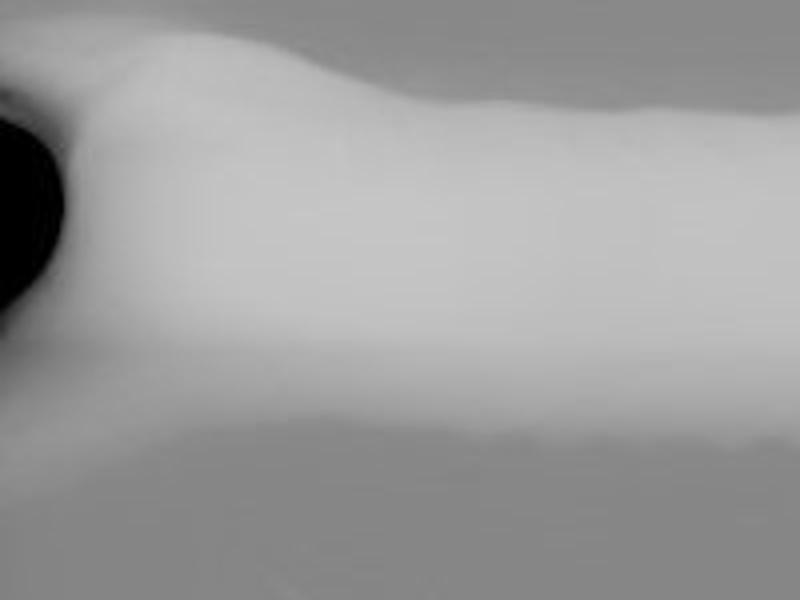defect: (1, 118, 67, 316)
